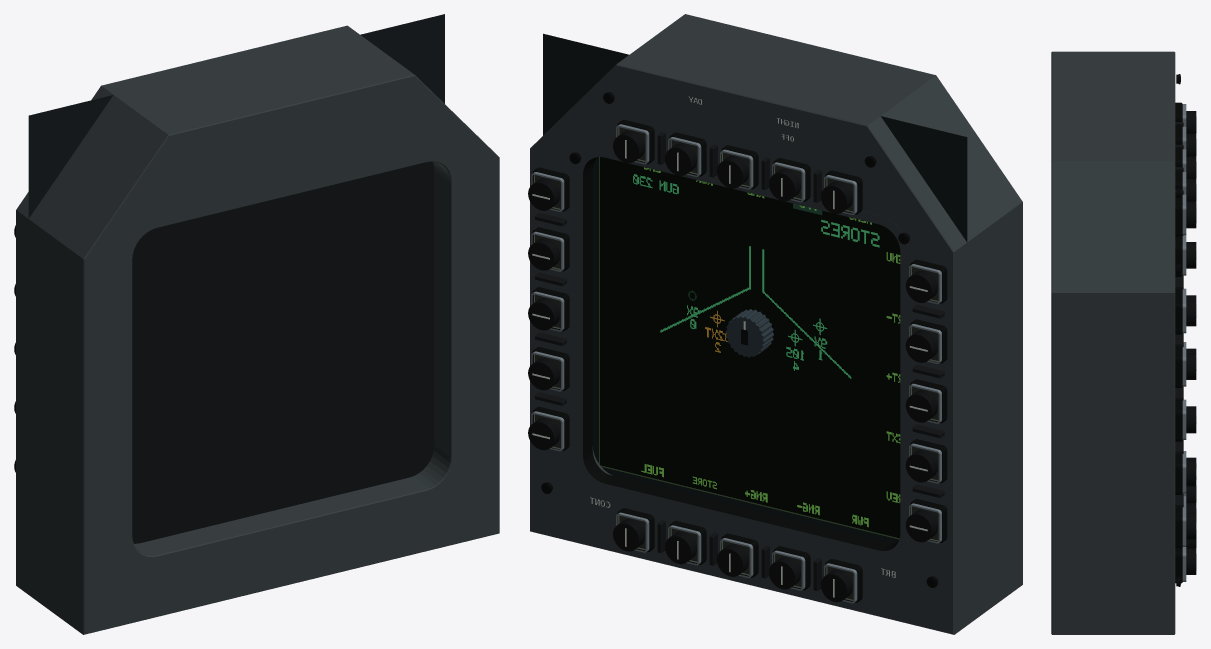
The model's file is MFDStudio.obj.
3 renders of one model, left to right at view 1: azimuth 30°, elevation 25°; view 2: azimuth 150°, elevation 25°; view 3: azimuth 270°, elevation 25°, orthographic. The views are drawn at different scales.
Parts seen in each view (by area): view 1: MFDStudioBody, MFDStudioScreen; view 2: MFDStudioBody, MFDStudioScreen, MFDStudioKnob0, MFDStudioScrews; view 3: MFDStudioBody.
Part boxes in pixels (<box>): MFDStudioBody: <box>14,25,499,634</box>; MFDStudioScreen: <box>28,14,444,218</box>; MFDStudioBody: <box>528,14,1022,634</box>; MFDStudioScreen: <box>532,33,967,602</box>; MFDStudioKnob0: <box>725,309,773,357</box>; MFDStudioScrews: <box>541,92,938,587</box>; MFDStudioBody: <box>1051,51,1196,634</box>.
Bounding box in the file's own units: 0.24 × 0.264 × 0.0797.
10 materials, 1 textured.
